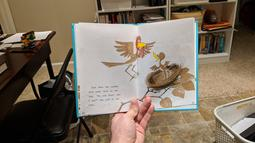text block: (83, 80, 129, 108)
